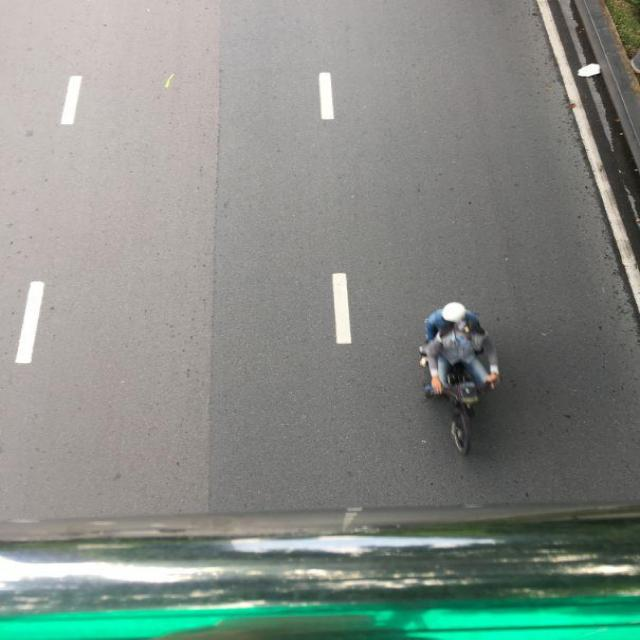motorcycle: (441, 359, 479, 455)
